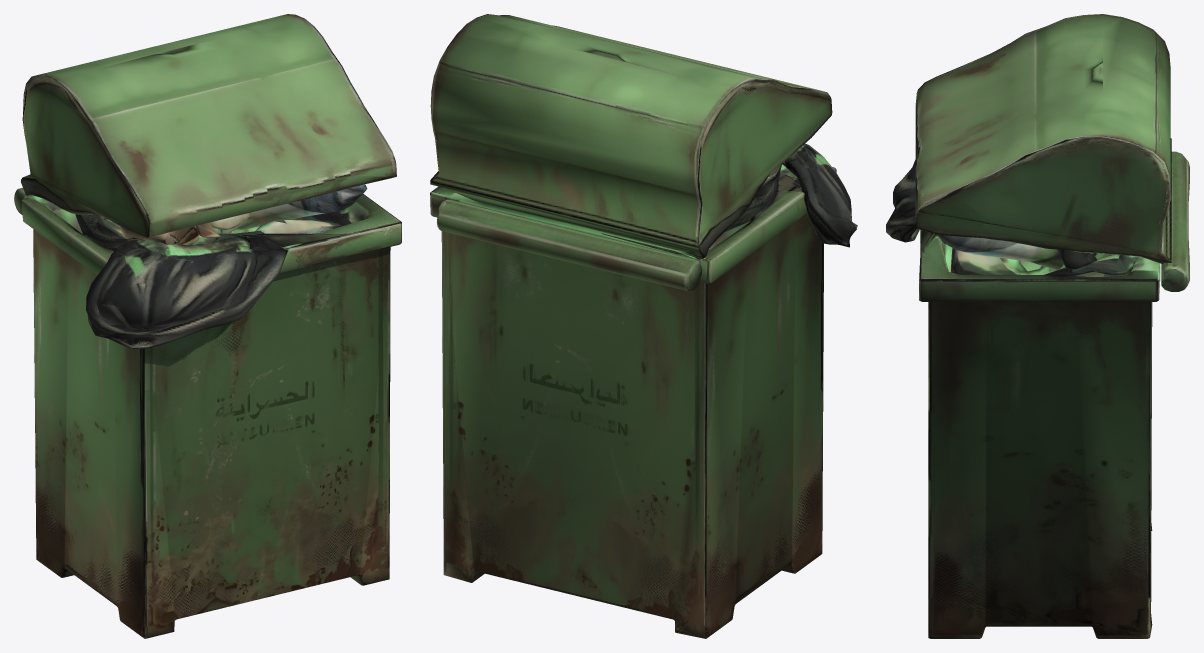
The model's file is Meshy_AI_Deserted_Dumpster_0312122513_texture.fbx.
3 views of the same model, side by side, from view 1: azimuth 30°, elevation 25°; view 2: azimuth 150°, elevation 25°; view 3: azimuth 270°, elevation 25° (orthographic). The views are drawn at different scales.
Parts seen in each view (by area): view 1: Mesh_0; view 2: Mesh_0; view 3: Mesh_0.
Boxes of the visible parts, x1=… form: Mesh_0: x1=14, y1=14, x2=401, y2=638; Mesh_0: x1=430, y1=14, x2=857, y2=638; Mesh_0: x1=886, y1=14, x2=1189, y2=638.
Size of the model in its own units: 118 by 191 by 104.
1 material, 1 textured.
